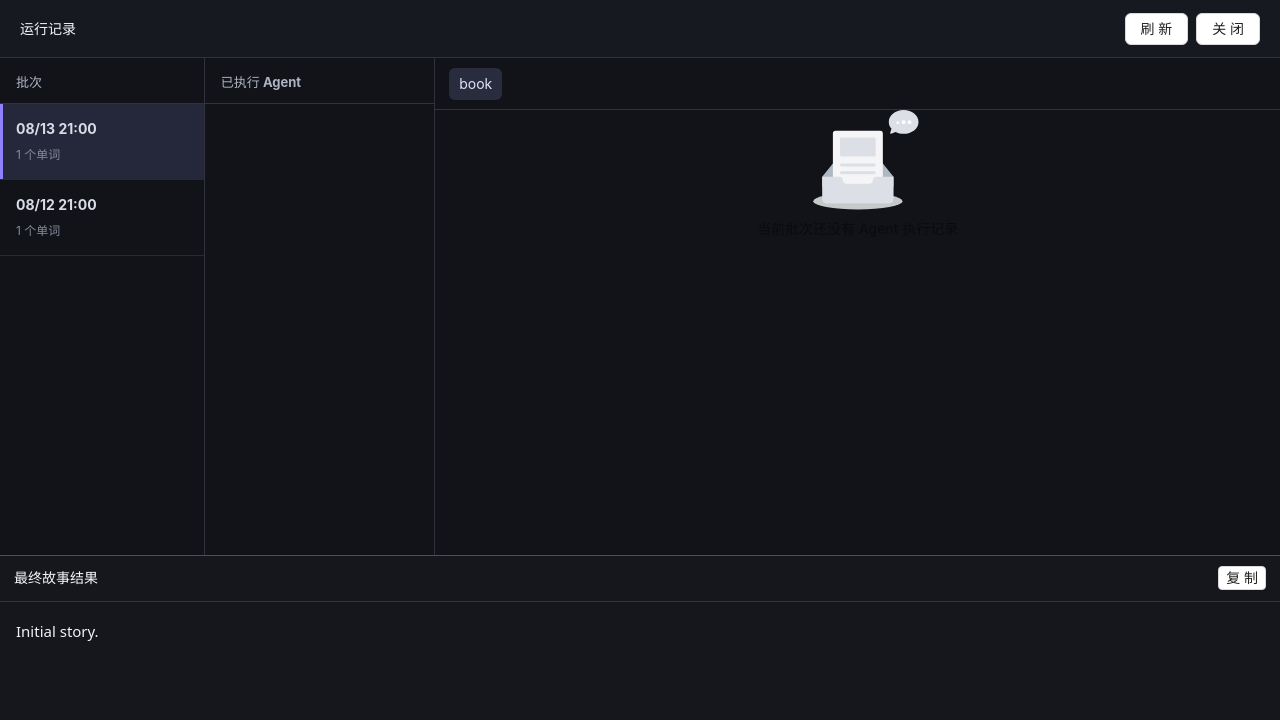
Test: StoryRunHistory › ignores an older batch response that arrives after switching batches
Expected: the text "Initial story." is shown, 16,620 -> 99,640
Click the button "刷 新" at coordinates (1156, 28), box 1124,12 -> 1188,44
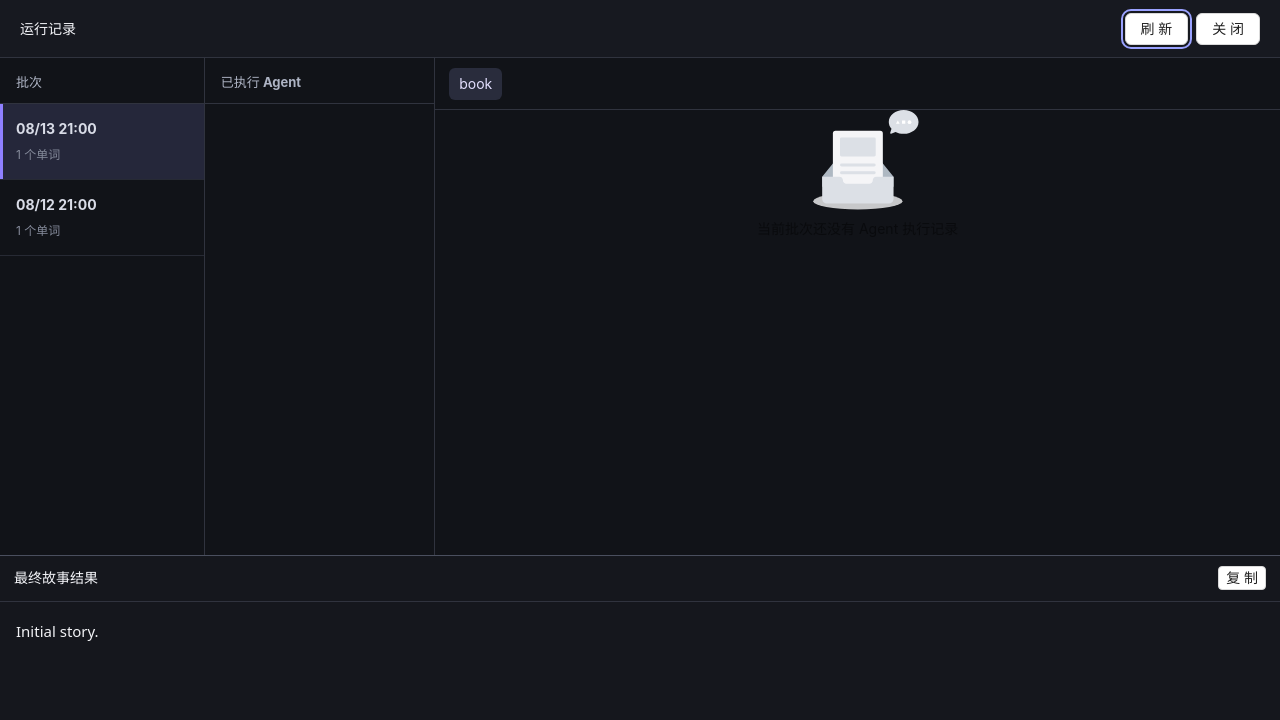
Click the button with aria-label "run-old" at coordinates (102, 218), box 0,180 -> 204,256
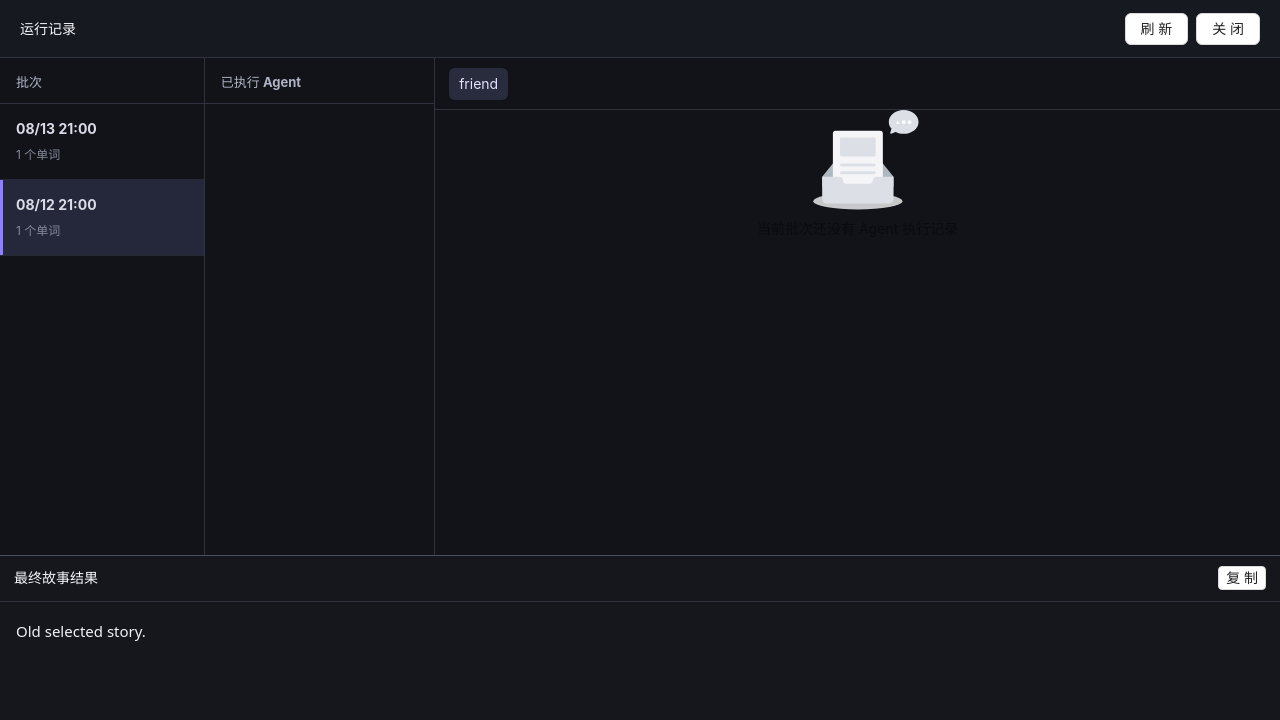
Result: the element "最终故事结果" shows "Old selected story." at 16,620 -> 146,640
